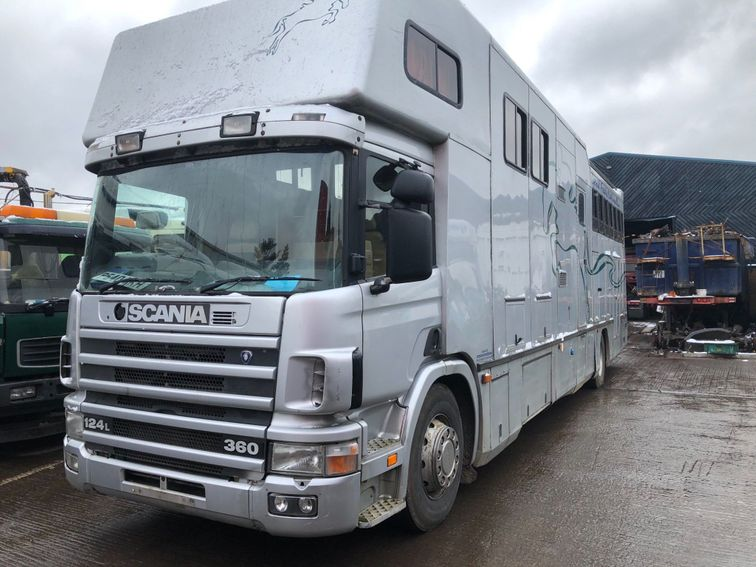Semi: (59, 0, 623, 536)
